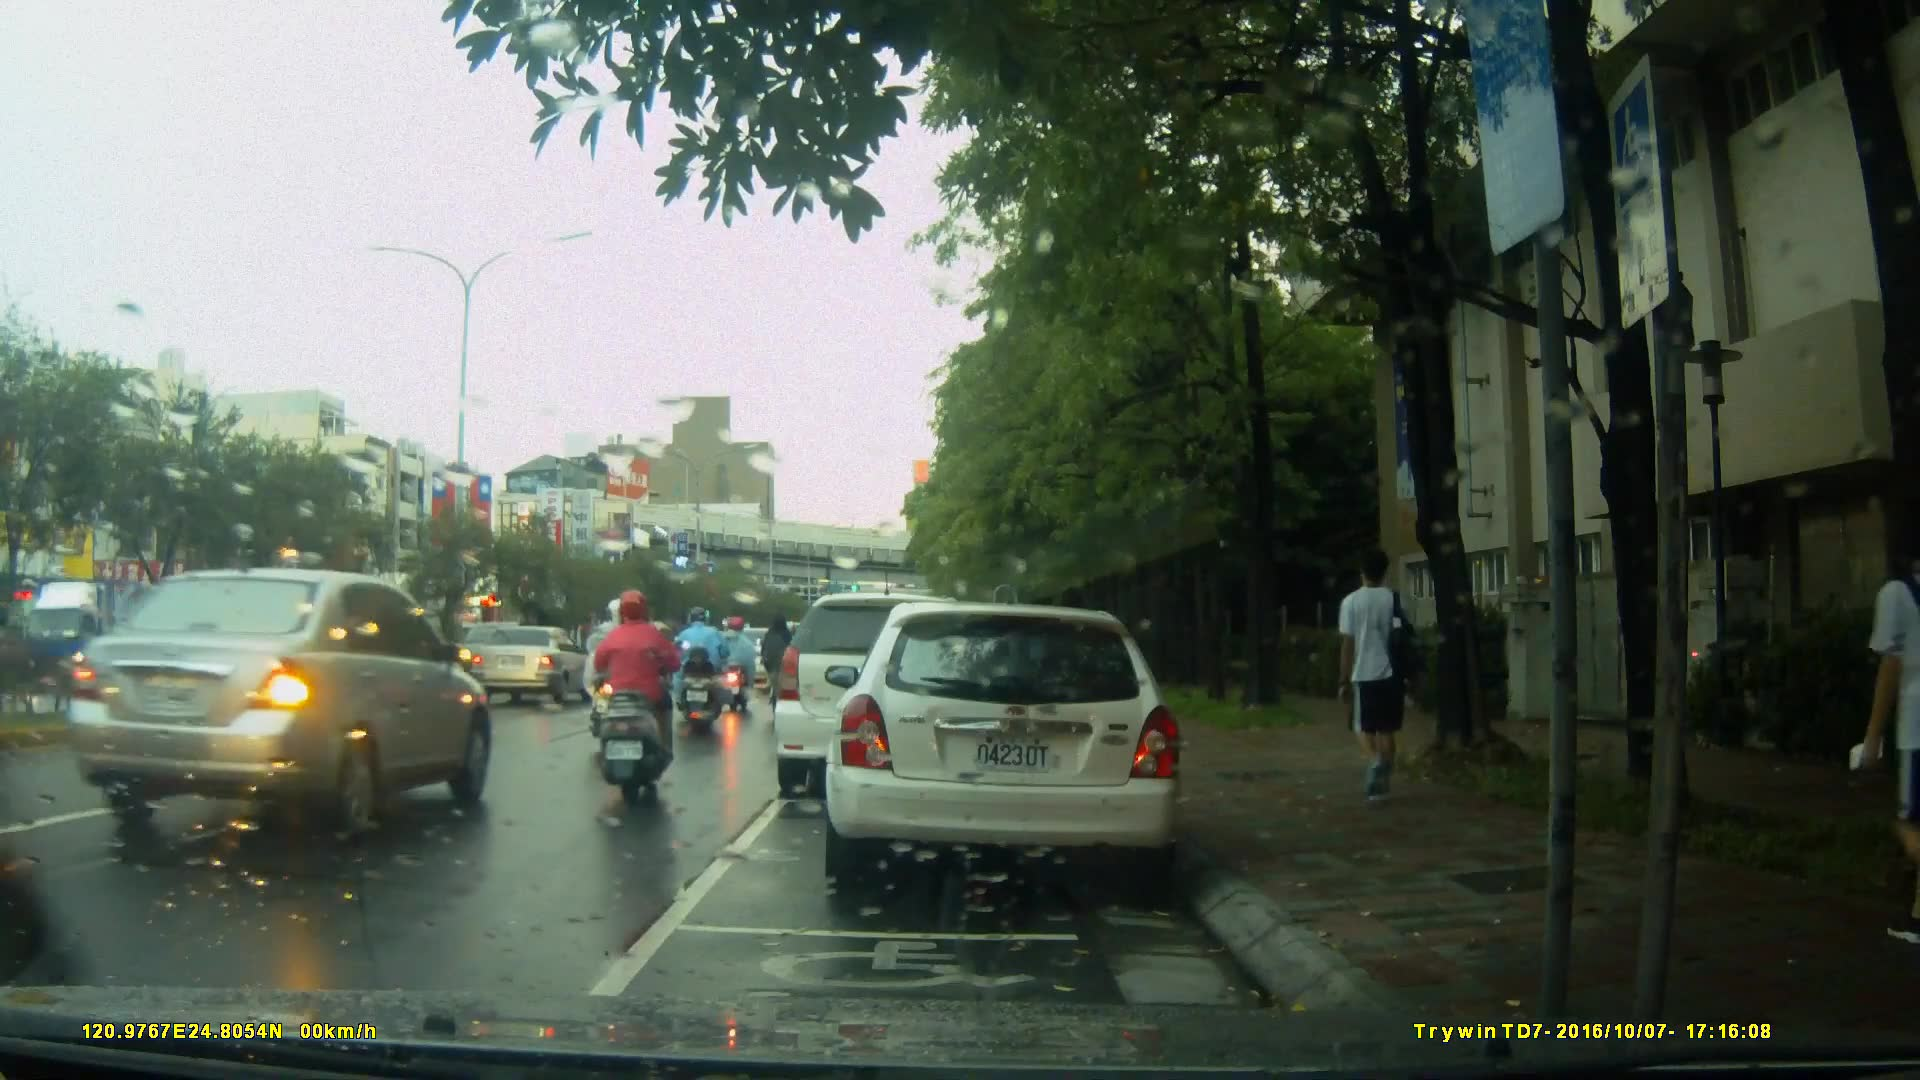pedestrian: (1839, 502, 1920, 940), (1333, 548, 1429, 822)
rider: (580, 590, 672, 810), (590, 601, 647, 764), (672, 608, 732, 739), (719, 613, 763, 714), (764, 610, 800, 728)
vehicle: (48, 566, 492, 848), (822, 604, 1188, 882), (774, 595, 995, 802), (470, 623, 595, 709)
